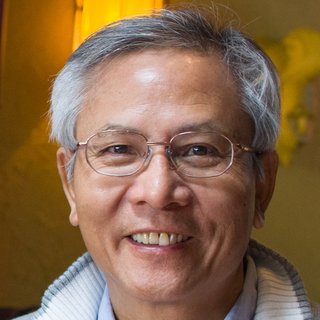eye: (98, 139, 141, 164), (177, 140, 221, 164)
